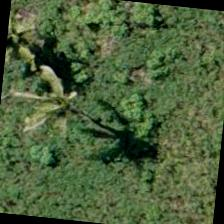Kelapa_Sawit: (11, 61, 110, 160)
